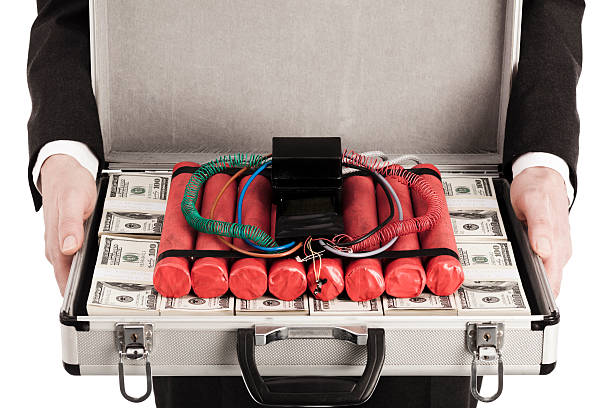terrorist: (122, 36, 514, 382)
